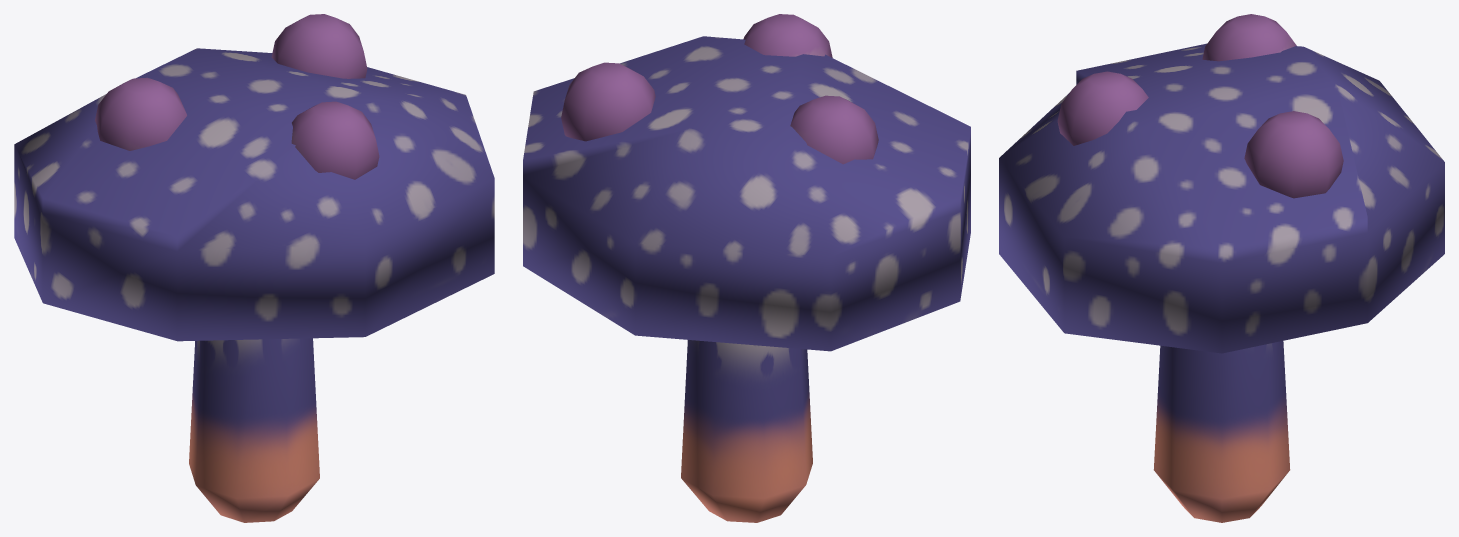
File: Mushroom1.fbx
3 renders of one model, left to right at view 1: azimuth 30°, elevation 25°; view 2: azimuth 150°, elevation 25°; view 3: azimuth 270°, elevation 25°, orthographic.
Visible parts, largest first — view 1: Mushroom1:pasted__pCylinder2, Mushroom1:pasted__pCylinder1, Mushroom1:pSphere4, Mushroom1:pSphere5, Mushroom1:pSphere3; view 2: Mushroom1:pasted__pCylinder2, Mushroom1:pasted__pCylinder1, Mushroom1:pSphere3, Mushroom1:pSphere5, Mushroom1:pSphere4; view 3: Mushroom1:pasted__pCylinder2, Mushroom1:pasted__pCylinder1, Mushroom1:pSphere3, Mushroom1:pSphere4, Mushroom1:pSphere5.
Boxes of the visible parts, x1,y1,x2,y2 form: Mushroom1:pasted__pCylinder2: (14,48,494,341); Mushroom1:pasted__pCylinder1: (189,338,319,522); Mushroom1:pSphere4: (291,101,379,179); Mushroom1:pSphere5: (95,77,186,150); Mushroom1:pSphere3: (271,14,367,78); Mushroom1:pasted__pCylinder2: (523,36,970,351); Mushroom1:pasted__pCylinder1: (681,340,812,522); Mushroom1:pSphere3: (561,62,655,141); Mushroom1:pSphere5: (790,95,878,164); Mushroom1:pSphere4: (743,14,832,57); Mushroom1:pasted__pCylinder2: (999,43,1444,353); Mushroom1:pasted__pCylinder1: (1153,341,1290,522); Mushroom1:pSphere3: (1244,111,1343,198); Mushroom1:pSphere4: (1057,71,1148,145); Mushroom1:pSphere5: (1202,14,1296,61).
Bounding box in the file's own units: 1.67 × 1.64 × 1.51.
1 material, 1 textured.
